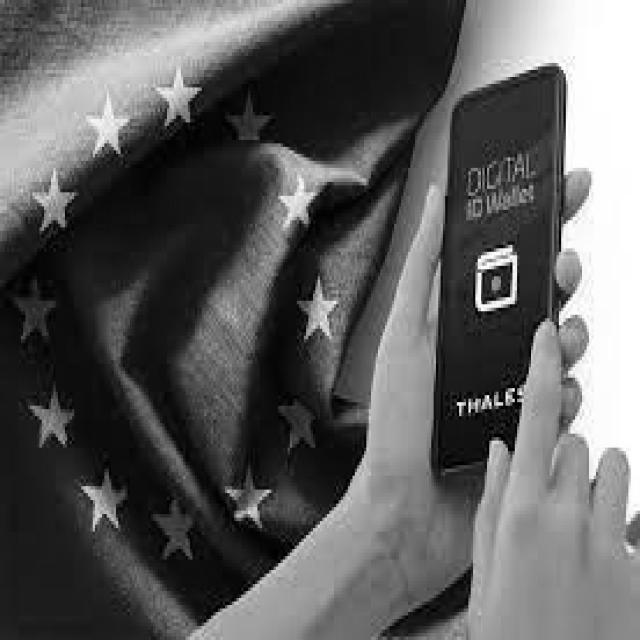No gun_phone: (432, 65, 569, 485)
